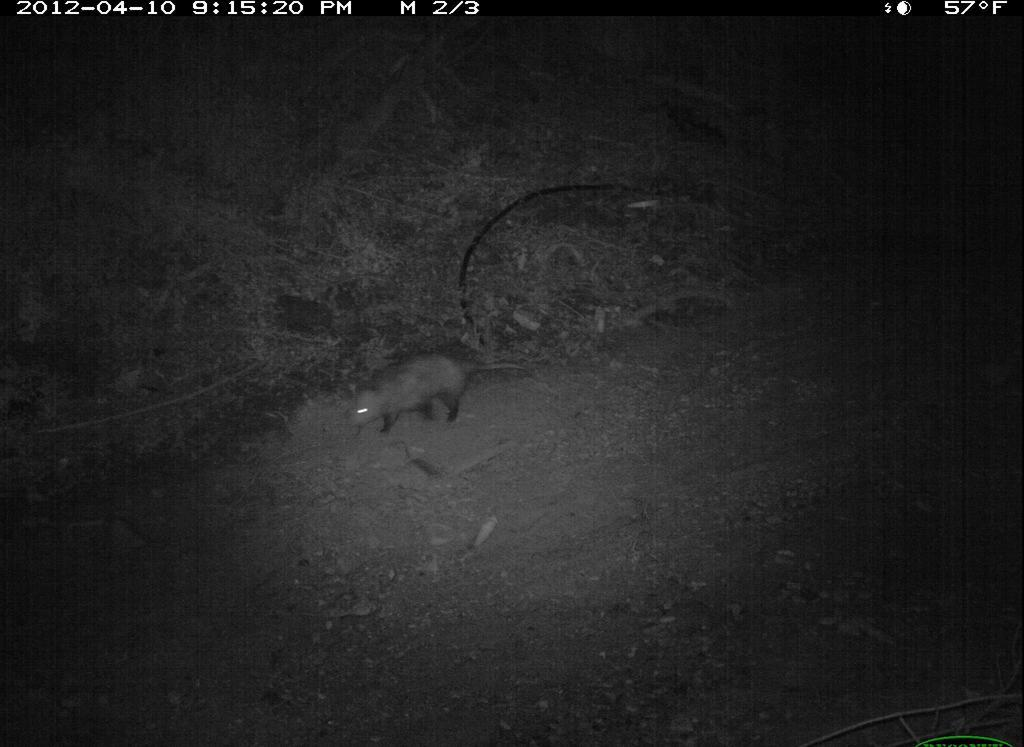opossum: (336, 337, 530, 449)
